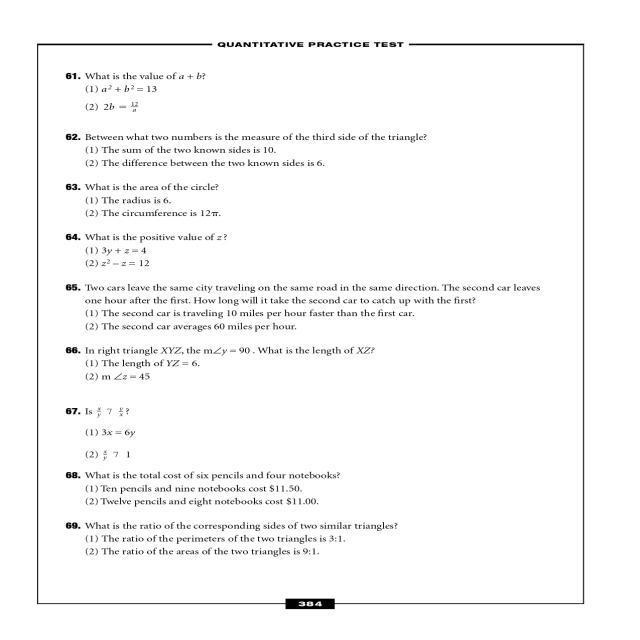Question_Answer_Block: (34, 275, 590, 343), (34, 400, 590, 466), (34, 64, 590, 128), (34, 514, 590, 568), (34, 342, 590, 393), (34, 128, 590, 178), (37, 227, 593, 276), (34, 468, 590, 514), (34, 180, 590, 224)
Question_Block: (34, 275, 590, 343), (34, 400, 590, 466), (34, 64, 590, 128), (34, 514, 590, 568), (34, 342, 590, 393), (34, 128, 590, 178), (37, 227, 593, 276), (34, 468, 590, 514), (34, 180, 590, 224)
Question_Paper_Area: (34, 64, 590, 580)
